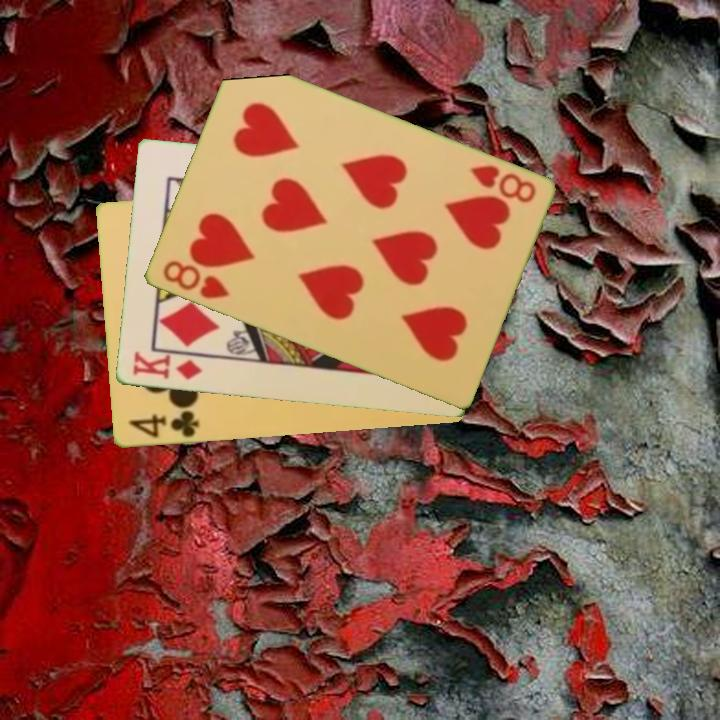4c: (125, 407, 202, 441)
8h: (158, 257, 232, 303), (465, 161, 538, 206)
Kd: (128, 348, 204, 383)
